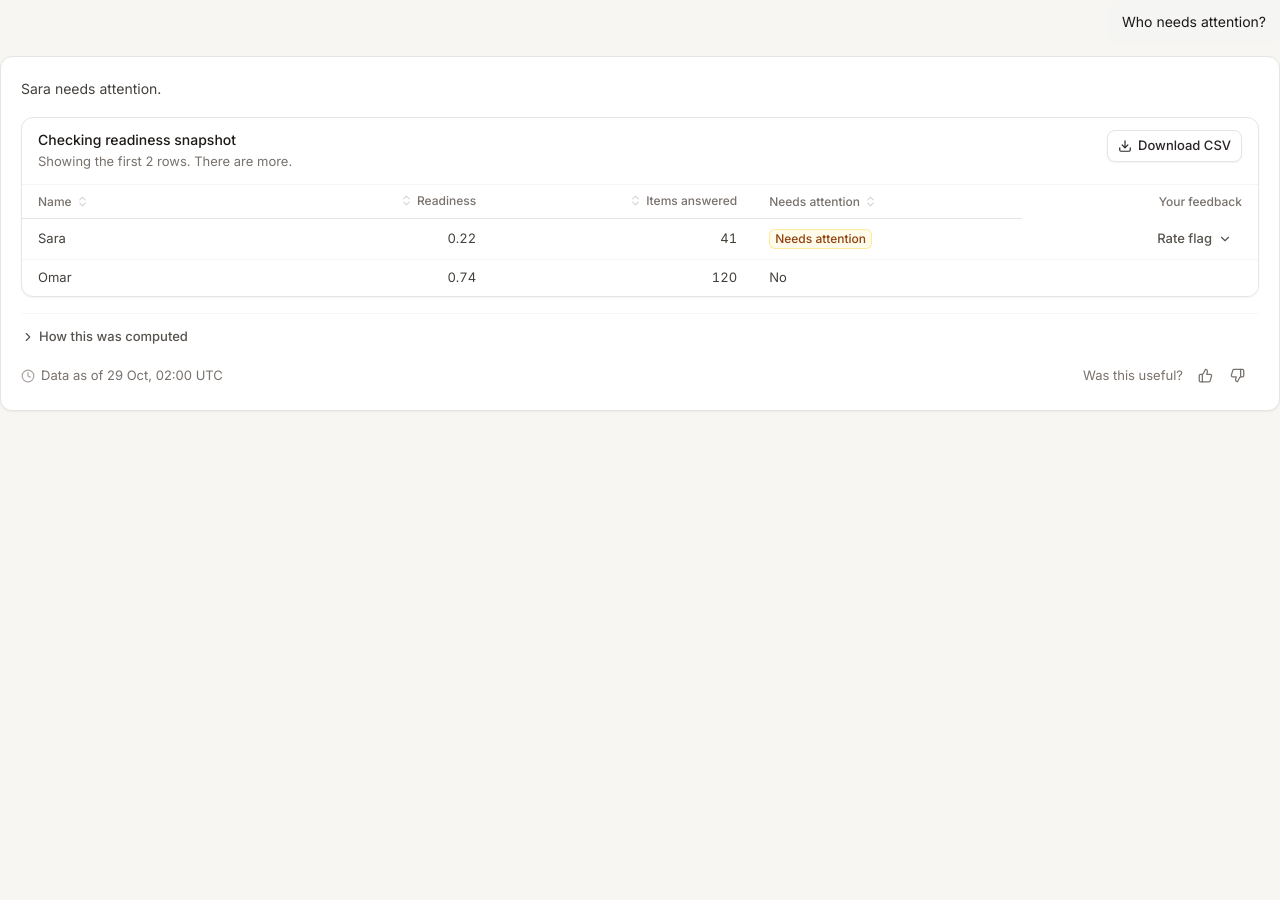
Test case: how this was computed › is collapsed, and opens to the question, the SQL, the rows, the as-of and the sample sizes
Expected: the text "The question as understood" is not shown
Step 1. Click the button "How this was computed" → [104, 337], box [17, 327, 192, 346]
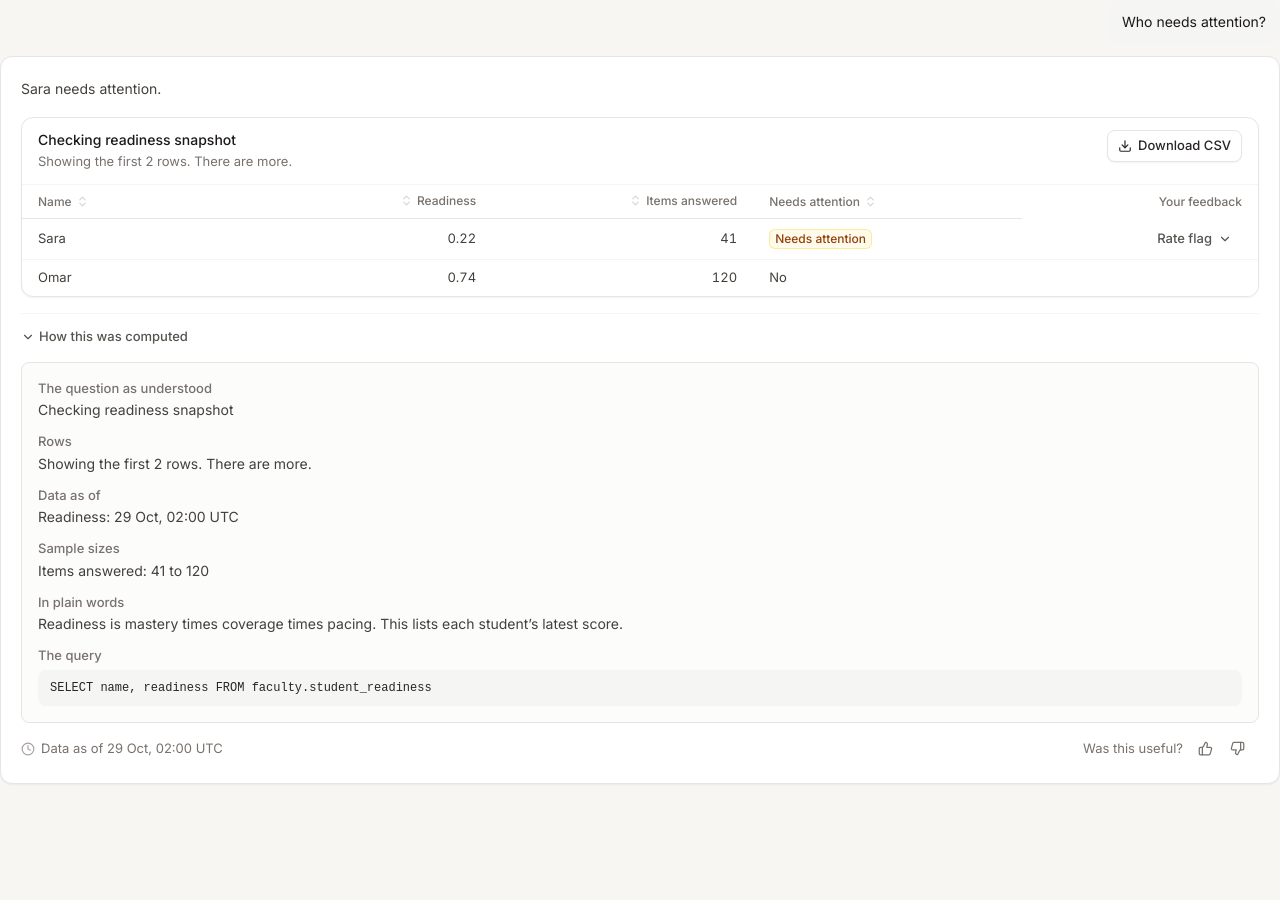
Result: the button "How this was computed" is expanded at [17, 327, 192, 346]
